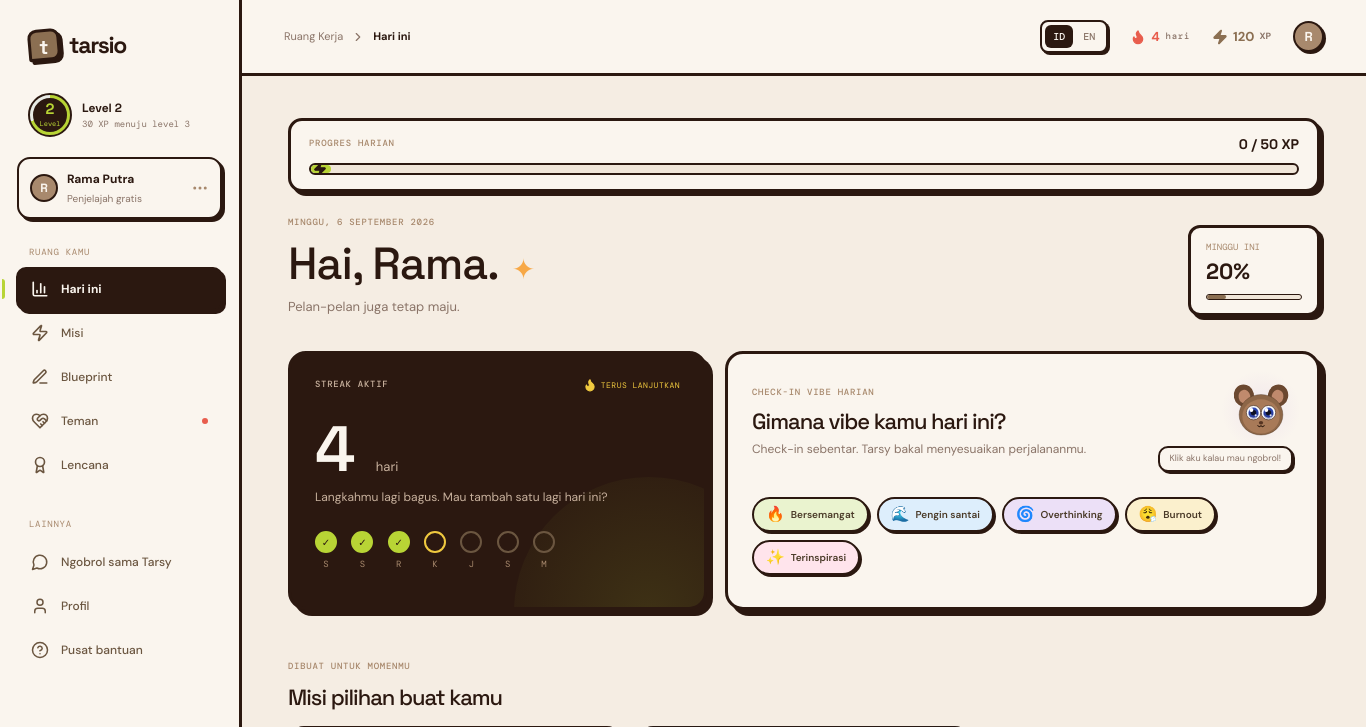
Scenario: Dashboard › shows the empty blueprint state when no quests are completed
This screenshot has width=1366, height=727.
Check: the heading "Hai, Rama. ✦" is shown, box [288, 240, 534, 286]
Click the button "Blueprint": coordinates (120, 377) [16, 355, 223, 399]
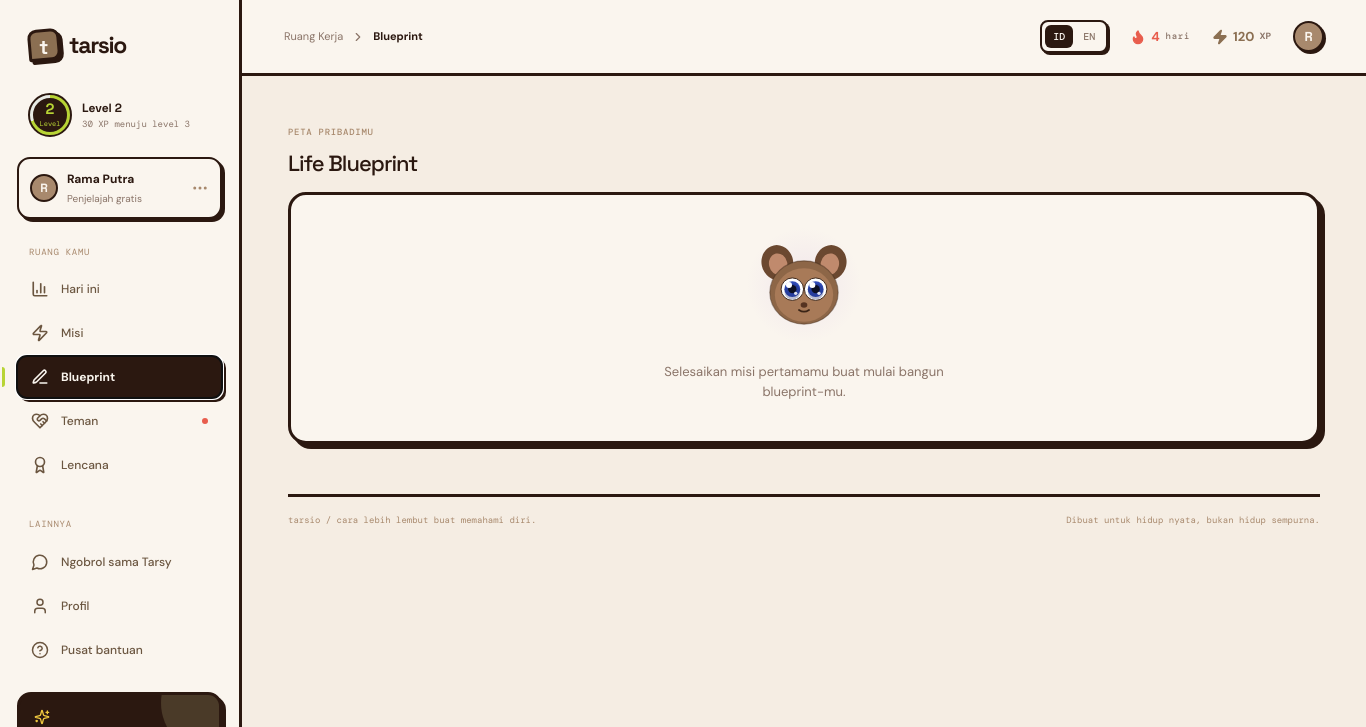
Check: the text "Selesaikan misi pertamamu buat mulai bangun blueprint-mu." is shown, box [664, 362, 944, 401]
